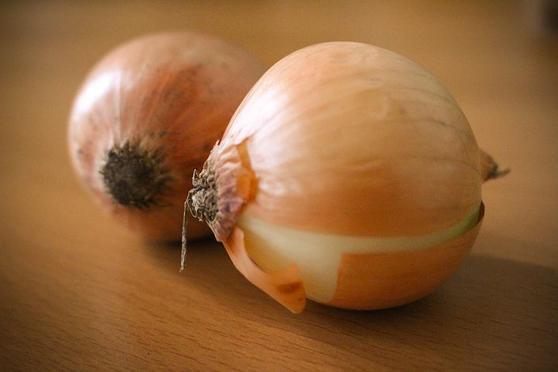onion: (199, 40, 498, 324), (69, 32, 244, 241)
